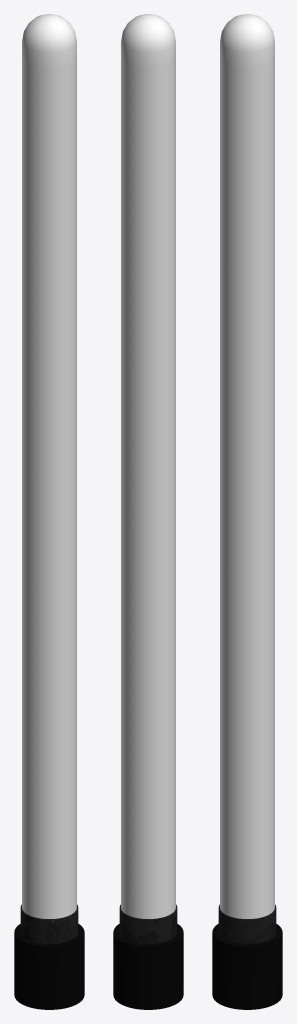
Rendered from light_lamp.fbx.
3 renders of one model, left to right at view 1: azimuth 90°, elevation 25°; view 2: azimuth 150°, elevation 25°; view 3: azimuth 270°, elevation 25°, orthographic.
Visible parts, largest first — view 1: Cylinder_3; view 2: Cylinder_3; view 3: Cylinder_3.
Boxes of the visible parts, box(x1,y1,x2,y2) form: Cylinder_3: box(14, 14, 84, 1009); Cylinder_3: box(113, 14, 183, 1009); Cylinder_3: box(212, 14, 282, 1009).
Bounding box in the file's own units: 21.82 × 336 × 21.82.
1 material, 1 textured.
